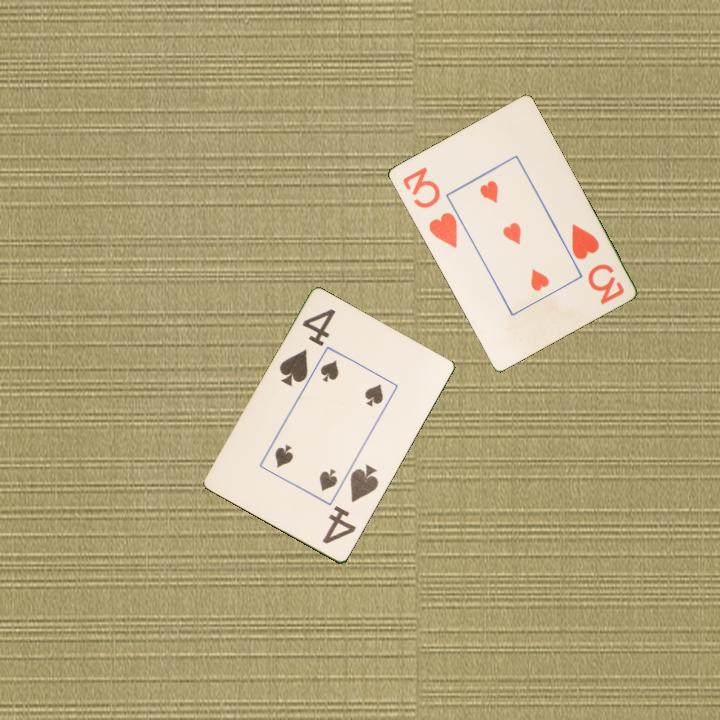3h: (399, 163, 460, 251), (567, 220, 627, 307)
4s: (319, 461, 382, 547), (276, 306, 339, 390)
